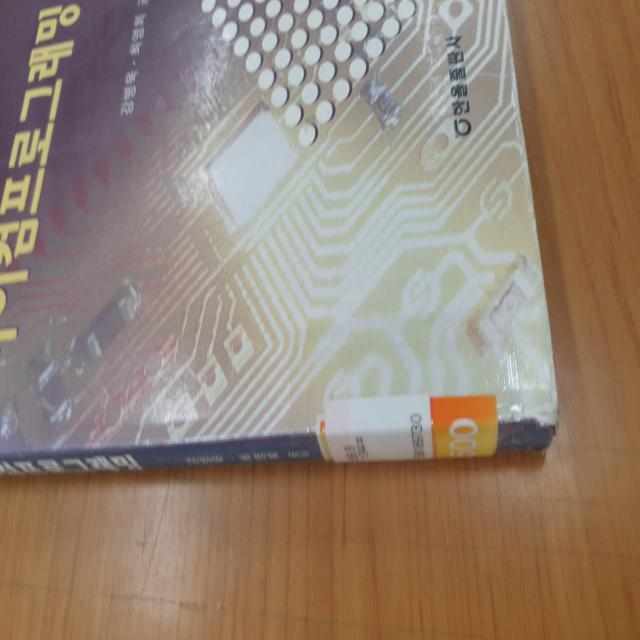Ripped: (500, 396, 567, 442)
Wornout: (495, 0, 539, 274), (537, 321, 564, 395)
